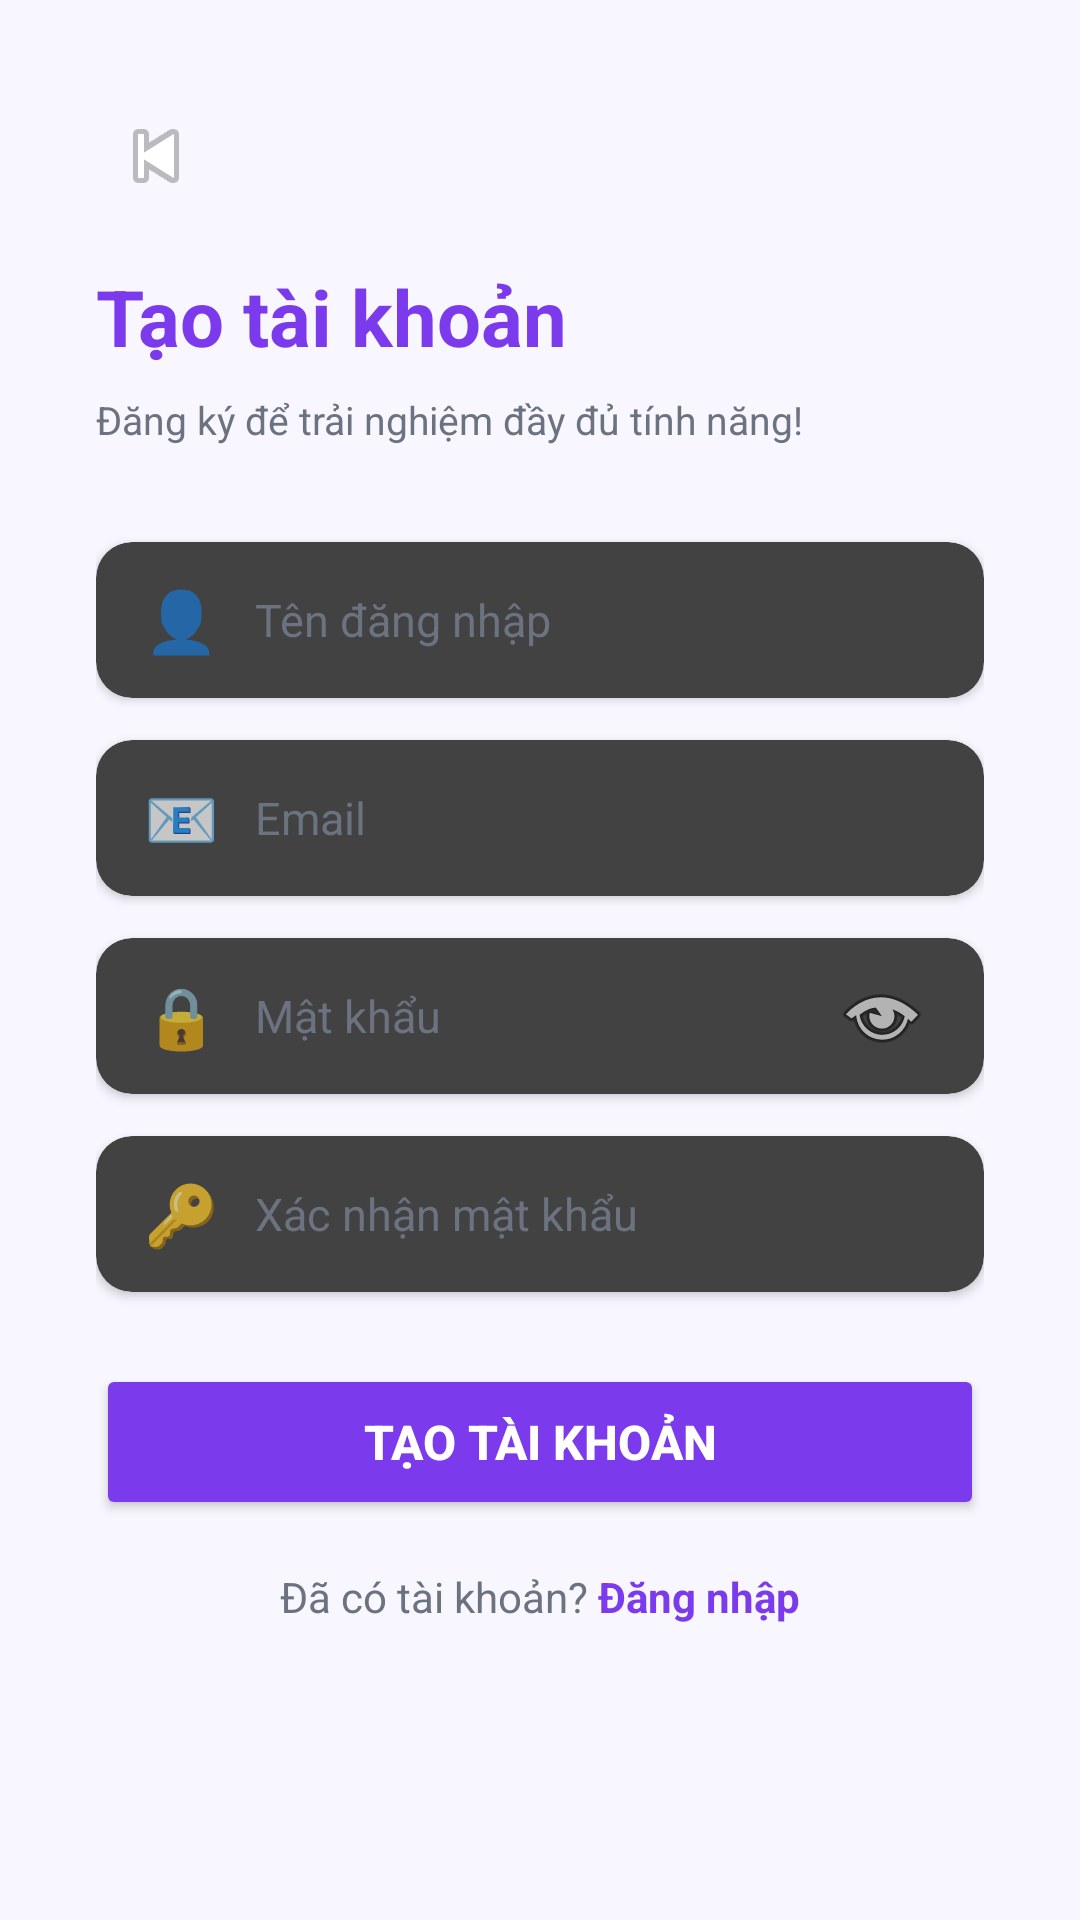

Locate icon controls on the screen. Image size 1080w x 1920h, boxes as (x1, y1, x2, y2).
previous: (133, 129, 179, 183)
view: (844, 995, 920, 1042)
